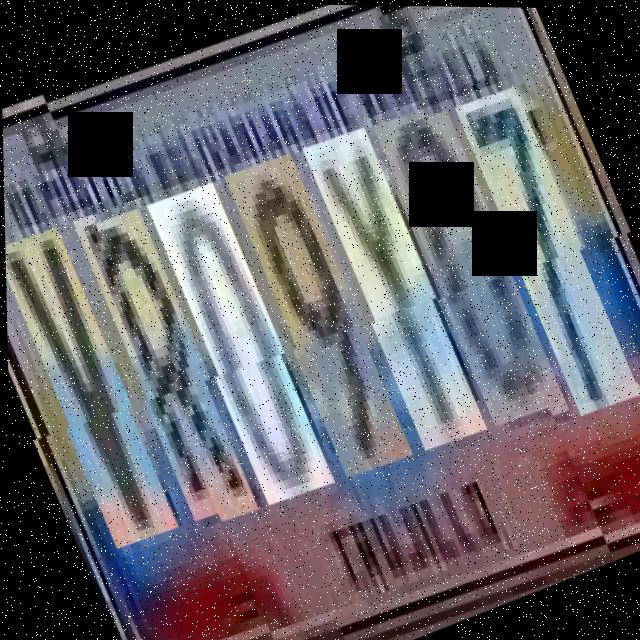7: (449, 68, 640, 402)
9: (222, 148, 415, 475)
O: (371, 93, 566, 421), (144, 177, 337, 504)
R: (74, 203, 262, 528)
V: (4, 231, 184, 556)
Y: (301, 121, 488, 447)
